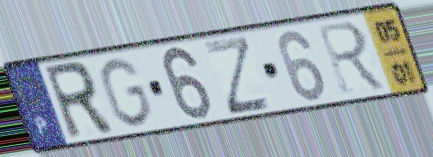6: (161, 44, 214, 123), (275, 27, 328, 104)
G: (96, 56, 156, 130)
R: (40, 58, 118, 144), (313, 18, 391, 97)
Z: (200, 32, 275, 118)
